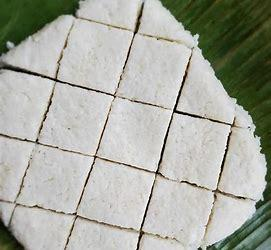Kiribath: (6, 1, 255, 247)
